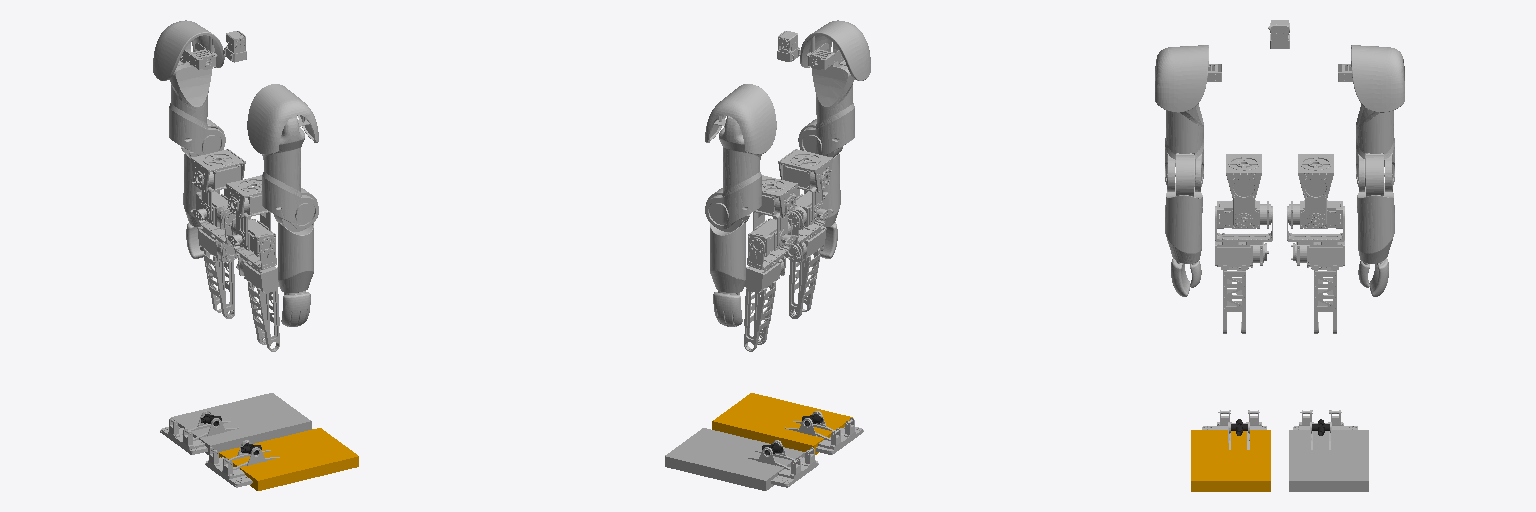
--- What the picture shows (computed from the rendered views, not written in the file) ---
The picture shows the robot from 3 angles, left to right: view 1: azimuth 30°, elevation 25°; view 2: azimuth 150°, elevation 25°; view 3: azimuth 270°, elevation 25°; orthographic projection.
Robot: zjlrobotone — 24 links, 23 joints (22 revolute, 1 fixed); root link base; default pose: every joint at zero.
Links seen in each view (by area): view 1: right_foot_earth_link, left_foot_earth_link, right_upper_arm_Link, left_upper_arm_Link, right_lower_arm_Link, right_shoulder_pitch_Link, right_thigh_Link, left_shoulder_pitch_Link, left_thigh_Link, left_hip_yaw_Link, right_hip_yaw_Link, left_lower_arm_Link (+5 smaller); view 2: left_foot_earth_link, right_foot_earth_link, left_upper_arm_Link, right_upper_arm_Link, left_lower_arm_Link, left_shoulder_pitch_Link, left_thigh_Link, right_shoulder_pitch_Link, right_thigh_Link, right_hip_yaw_Link, left_hip_yaw_Link, right_lower_arm_Link (+5 smaller); view 3: left_foot_earth_link, right_foot_earth_link, right_lower_arm_Link, left_lower_arm_Link, left_shoulder_pitch_Link, right_shoulder_pitch_Link, right_thigh_Link, left_thigh_Link, right_upper_arm_Link, left_upper_arm_Link, left_hip_yaw_Link, right_hip_yaw_Link (+5 smaller).
Link boxes in pixels (<box>): right_foot_earth_link: <box>219,428,358,490</box>; left_foot_earth_link: <box>171,393,311,454</box>; right_upper_arm_Link: <box>262,116,318,228</box>; left_upper_arm_Link: <box>169,42,224,155</box>; right_lower_arm_Link: <box>274,188,317,326</box>; right_shoulder_pitch_Link: <box>247,84,318,154</box>; right_thigh_Link: <box>233,237,279,351</box>; left_shoulder_pitch_Link: <box>153,20,224,80</box>; left_thigh_Link: <box>197,212,239,318</box>; left_hip_yaw_Link: <box>191,149,245,220</box>; right_hip_yaw_Link: <box>226,174,270,246</box>; left_lower_arm_Link: <box>181,119,225,258</box>; left_foot_earth_link: <box>665,428,804,490</box>; right_foot_earth_link: <box>712,393,852,454</box>; left_upper_arm_Link: <box>705,116,761,228</box>; right_upper_arm_Link: <box>799,42,854,155</box>; left_lower_arm_Link: <box>706,188,749,326</box>; left_shoulder_pitch_Link: <box>705,84,776,154</box>; left_thigh_Link: <box>744,237,790,351</box>; right_shoulder_pitch_Link: <box>800,20,870,80</box>; right_thigh_Link: <box>784,212,826,318</box>; right_hip_yaw_Link: <box>778,149,832,220</box>; left_hip_yaw_Link: <box>753,174,797,246</box>; right_lower_arm_Link: <box>798,119,842,258</box>; left_foot_earth_link: <box>1289,430,1368,491</box>; right_foot_earth_link: <box>1191,430,1270,491</box>; right_lower_arm_Link: <box>1165,155,1202,296</box>; left_lower_arm_Link: <box>1357,155,1394,296</box>; left_shoulder_pitch_Link: <box>1338,45,1404,112</box>; right_shoulder_pitch_Link: <box>1155,45,1221,112</box>; right_thigh_Link: <box>1215,206,1272,333</box>; left_thigh_Link: <box>1287,206,1344,333</box>; right_upper_arm_Link: <box>1165,104,1203,191</box>; left_upper_arm_Link: <box>1356,104,1394,191</box>; left_hip_yaw_Link: <box>1298,154,1333,228</box>; right_hip_yaw_Link: <box>1226,154,1261,228</box>.
Bounding box of the posed robot: 0.348 × 0.627 × 1.19 m (x, y, z).
17 mesh visuals loaded from 21 distinct referenced files (17 binary STL); not drawn: 4 (reference not matched to a file when rendering).

URDF robot description (zjlrobotone):
<?xml version="1.0" encoding="utf-8"?>
<!-- This URDF was automatically created by SolidWorks to URDF Exporter! Originally created by Stephen Brawner ([email redacted]) 
     Commit Version: 1.6.0-1-g15f4949  Build Version: 1.6.7594.29634
     For more information, please see http://wiki.ros.org/sw_urdf_exporter -->
<robot
  name="zjlrobotone">
  <!-- Joints and links -->
  <!--link name="base"/-->
  <link name="base"/>
  <joint name="trunk_link-base_fixed_joint" type="fixed">
    <!--origin rpy="0 0 0" xyz="0 0 0.8189"/-->
    <origin rpy="0 0 0" xyz="0 0 0.02"/>
    <parent link="base"/>
    <child link="trunk_link"/>
  </joint>
  <link
    name="trunk_link">
    <inertial>
      <origin
        xyz="-0.000914450757348744 0.000746421374304825 0.914951910973889"
        rpy="0 0 0" />
      <mass
        value="7.52904861171899" />
      <inertia
        ixx="0.0666305484329888"
        ixy="-1.0204528353095E-05"
        ixz="0.000757132239389187"
        iyy="0.0394602930734245"
        iyz="-2.43992241352087E-05"
        izz="0.0622663096051638" />
    </inertial>
    <visual>
      <origin
        xyz="0 0 0"
        rpy="0 0 0" />
      <geometry>
        <mesh
          filename="package://zjlrobotone/meshes/trunk_link.STL" />
      </geometry>
      <material
        name="">
        <color
          rgba="0.752941176470588 0.752941176470588 0.752941176470588 1" />
      </material>
    </visual>
    <collision>
      <origin
        xyz="0 0 0"
        rpy="0 0 0" />
      <geometry>
        <mesh
          filename="package://zjlrobotone/meshes/trunk_link.STL" />
      </geometry>
    </collision>
  </link>
  <link
    name="neck_Link">
    <inertial>
      <origin
        xyz="0.000399637918491747 -0.000628342504643824 0.0321779518256375"
        rpy="0 0 0" />
      <mass
        value="0.261909651464687" />
      <inertia
        ixx="0.000121396705664351"
        ixy="5.460169452591E-12"
        ixz="-3.45895617977189E-06"
        iyy="0.000102480196365687"
        iyz="4.98872979477803E-07"
        izz="7.410282035377E-05" />
    </inertial>
    <visual>
      <origin
        xyz="0 0 0"
        rpy="0 0 0" />
      <geometry>
        <mesh
          filename="package://zjlrobotone/meshes/neck_Link.STL" />
      </geometry>
      <material
        name="">
        <color
          rgba="0.752941176470588 0.752941176470588 0.752941176470588 1" />
      </material>
    </visual>
    <collision>
      <origin
        xyz="0 0 0"
        rpy="0 0 0" />
      <geometry>
        <mesh
          filename="package://zjlrobotone/meshes/neck_Link.STL" />
      </geometry>
    </collision>
  </link>
  <joint
    name="neck_yaw"
    type="revolute">
    <origin
      xyz="0 0 1.111500041206"
      rpy="0 0 0" />
    <parent
      link="trunk_link" />
    <child
      link="neck_Link" />
    <axis
      xyz="0 0 1" />
    <limit
      lower="-3"
      upper="3"
      effort="100"
      velocity="100" />
  </joint>
  <link
    name="head_Link">
    <inertial>
      <origin
        xyz="0.0388706602212827 -1.680084105272E-05 0.10710542579968"
        rpy="0 0 0" />
      <mass
        value="1.27344162747288" />
      <inertia
        ixx="0.00597035907598076"
        ixy="9.79000656877944E-07"
        ixz="0.000511898861205566"
        iyy="0.00376195675607552"
        iyz="-3.66138910866151E-06"
        izz="0.00658008589012989" />
    </inertial>
    <visual>
      <origin
        xyz="0 0 0"
        rpy="0 0 0" />
      <geometry>
        <mesh
          filename="package://zjlrobotone/meshes/head_Link.STL" />
      </geometry>
      <material
        name="">
        <color
          rgba="0.752941176470588 0.752941176470588 0.752941176470588 1" />
      </material>
    </visual>
    <collision>
      <origin
        xyz="0 0 0"
        rpy="0 0 0" />
      <geometry>
        <mesh
          filename="package://zjlrobotone/meshes/head_Link.STL" />
      </geometry>
    </collision>
  </link>
  <joint
    name="head_pitch"
    type="revolute">
    <origin
      xyz="0 0 0.04975"
      rpy="0 0 0" />
    <parent
      link="neck_Link" />
    <child
      link="head_Link" />
    <axis
      xyz="0 1 0" />
    <limit
      lower="-3"
      upper="3"
      effort="100"
      velocity="100" />
  </joint>
  <link
    name="right_shoulder_pitch_Link">
    <inertial>
      <origin
        xyz="-0.000117554601470666 -0.076800679836646 -0.00165994534359676"
        rpy="0 0 0" />
      <mass
        value="0.314079646947585" />
      <inertia
        ixx="0.000653074584763474"
        ixy="-9.53046961165069E-08"
        ixz="-5.1688005431628E-08"
        iyy="0.000881633812399181"
        iyz="-8.84307513571355E-05"
        izz="0.00105209606136951" />
    </inertial>
    <visual>
      <origin
        xyz="0 0 0"
        rpy="0 0 0" />
      <geometry>
        <mesh
          filename="package://zjlrobotone/meshes/right_shoulder_pitch_Link.STL" />
      </geometry>
      <material
        name="">
        <color
          rgba="0.752941176470588 0.752941176470588 0.752941176470588 1" />
      </material>
    </visual>
    <collision>
      <origin
        xyz="0 0 0"
        rpy="0 0 0" />
      <geometry>
        <mesh
          filename="package://zjlrobotone/meshes/right_shoulder_pitch_Link.STL" />
      </geometry>
    </collision>
  </link>
  <joint
    name="right_shoulder_pitch"
    type="revolute">
    <origin
      xyz="0.00106573234120347 -0.14454469837454 1.0373"
      rpy="0 0 0" />
    <parent
      link="trunk_link" />
    <child
      link="right_shoulder_pitch_Link" />
    <axis
      xyz="0 1 0" />
    <limit
      lower="-3"
      upper="3"
      effort="100"
      velocity="100" />
  </joint>
  <link
    name="right_upper_arm_Link">
    <inertial>
      <origin
        xyz="0.00303588692865786 -0.00231543510438542 -0.0958752653376666"
        rpy="0 0 0" />
      <mass
        value="0.635877588901592" />
      <inertia
        ixx="0.00287779069208217"
        ixy="-4.18611659613152E-07"
        ixz="0.000107894243746297"
        iyy="0.0027035617470645"
        iyz="0.000112664835718688"
        izz="0.000476711606016894" />
    </inertial>
    <visual>
      <origin
        xyz="0 0 0"
        rpy="0 0 0" />
      <geometry>
        <mesh
          filename="package://zjlrobotone/meshes/right_upper_arm_Link.STL" />
      </geometry>
      <material
        name="">
        <color
          rgba="0.752941176470588 0.752941176470588 0.752941176470588 1" />
      </material>
    </visual>
    <collision>
      <origin
        xyz="0 0 0"
        rpy="0 0 0" />
      <geometry>
        <mesh
          filename="package://zjlrobotone/meshes/right_upper_arm_Link.STL" />
      </geometry>
    </collision>
  </link>
  <joint
    name="right_shoulder_roll"
    type="revolute">
    <origin
      xyz="0 -0.0927799999999999 -0.0123"
      rpy="0 0 0" />
    <parent
      link="right_shoulder_pitch_Link" />
    <child
      link="right_upper_arm_Link" />
    <axis
      xyz="1 0 0" />
    <limit
      lower="-3"
      upper="3"
      effort="100"
      velocity="100" />
  </joint>
  <link
    name="right_lower_arm_Link">
    <inertial>
      <origin
        xyz="0.00538870678198584 -0.00111238107216985 -0.0772415461756999"
        rpy="0 0 0" />
      <mass
        value="0.587830039636809" />
      <inertia
        ixx="0.00138915468045659"
        ixy="-9.3321640779812E-06"
        ixz="-4.09572705755998E-05"
        iyy="0.00152611035581113"
        iyz="-0.000109617933614794"
        izz="0.000445111625002298" />
    </inertial>
    <visual>
      <origin
        xyz="0 0 0"
        rpy="0 0 0" />
      <geometry>
        <mesh
          filename="package://zjlrobotone/meshes/right_lower_arm_Link.STL" />
      </geometry>
      <material
        name="">
        <color
          rgba="0.752941176470588 0.752941176470588 0.752941176470588 1" />
      </material>
    </visual>
    <collision>
      <origin
        xyz="0 0 0"
        rpy="0 0 0" />
      <geometry>
        <mesh
          filename="package://zjlrobotone/meshes/right_lower_arm_Link.STL" />
      </geometry>
    </collision>
  </link>
  <joint
    name="right_elbow_pitch"
    type="revolute">
    <origin
      xyz="0.0399999999999999 0 -0.249999999999999"
      rpy="0 0 0" />
    <parent
      link="right_upper_arm_Link" />
    <child
      link="right_lower_arm_Link" />
    <axis
      xyz="0 1 0" />
    <limit
      lower="-3"
      upper="3"
      effort="100"
      velocity="100" />
  </joint>
  <link
    name="left_shoulder_pitch_Link">
    <inertial>
      <origin
        xyz="0.000117575341229363 0.0768006683610033 -0.00165993915191015"
        rpy="0 0 0" />
      <mass
        value="0.314079560668122" />
      <inertia
        ixx="0.000653074481699797"
        ixy="-9.55062916713564E-08"
        ixz="5.19576643513754E-08"
        iyy="0.000881633178187226"
        iyz="8.84307157082433E-05"
        izz="0.00105209554881933" />
    </inertial>
    <visual>
      <origin
        xyz="0 0 0"
        rpy="0 0 0" />
      <geometry>
        <mesh
          filename="package://zjlrobotone/meshes/left_shoulder_pitch_Link.STL" />
      </geometry>
      <material
        name="">
        <color
          rgba="0.752941176470588 0.752941176470588 0.752941176470588 1" />
      </material>
    </visual>
    <collision>
      <origin
        xyz="0 0 0"
        rpy="0 0 0" />
      <geometry>
        <mesh
          filename="package://zjlrobotone/meshes/left_shoulder_pitch_Link.STL" />
      </geometry>
    </collision>
  </link>
  <joint
    name="left_shoulder_pitch"
    type="revolute">
    <origin
      xyz="0.00106573234120405 0.14454469837456 1.0373"
      rpy="0 0 0" />
    <parent
      link="trunk_link" />
    <child
      link="left_shoulder_pitch_Link" />
    <axis
      xyz="0 1 0" />
    <limit
      lower="-3"
      upper="3"
      effort="100"
      velocity="100" />
  </joint>
  <link
    name="left_upper_arm_Link">
    <inertial>
      <origin
        xyz="0.00284806682467378 0.00207548938454302 -0.092627016824666"
        rpy="0 0 0" />
      <mass
        value="0.594737763802597" />
      <inertia
        ixx="0.00252021523090866"
        ixy="4.53566048612947E-07"
        ixz="9.68985437445098E-05"
        iyy="0.00237917618847347"
        iyz="-9.46955255343155E-05"
        izz="0.000415234831814517" />
    </inertial>
    <visual>
      <origin
        xyz="0 0 0"
        rpy="0 0 0" />
      <geometry>
        <mesh
          filename="package://zjlrobotone/meshes/left_upper_arm_Link.STL" />
      </geometry>
      <material
        name="">
        <color
          rgba="0.752941176470588 0.752941176470588 0.752941176470588 1" />
      </material>
    </visual>
    <collision>
      <origin
        xyz="0 0 0"
        rpy="0 0 0" />
      <geometry>
        <mesh
          filename="package://zjlrobotone/meshes/left_upper_arm_Link.STL" />
      </geometry>
    </collision>
  </link>
  <joint
    name="left_shoulder_roll"
    type="revolute">
    <origin
      xyz="0 0.09278 -0.0123"
      rpy="0 0 0" />
    <parent
      link="left_shoulder_pitch_Link" />
    <child
      link="left_upper_arm_Link" />
    <axis
      xyz="1 0 0" />
    <limit
      lower="-3"
      upper="3"
      effort="100"
      velocity="100" />
  </joint>
  <link
    name="left_lower_arm_Link">
    <inertial>
      <origin
        xyz="0.00570143028188708 0.00109861725622021 -0.0748707744922804"
        rpy="0 0 0" />
      <mass
        value="0.565622425308031" />
      <inertia
        ixx="0.00130219869014634"
        ixy="8.6913757582877E-06"
        ixz="-3.85811575084768E-05"
        iyy="0.00143212058880135"
        iyz="0.000102462423548298"
        izz="0.000423140321628434" />
    </inertial>
    <visual>
      <origin
        xyz="0 0 0"
        rpy="0 0 0" />
      <geometry>
        <mesh
          filename="package://zjlrobotone/meshes/left_lower_arm_Link.STL" />
      </geometry>
      <material
        name="">
        <color
          rgba="0.752941176470588 0.752941176470588 0.752941176470588 1" />
      </material>
    </visual>
    <collision>
      <origin
        xyz="0 0 0"
        rpy="0 0 0" />
      <geometry>
        <mesh
          filename="package://zjlrobotone/meshes/left_lower_arm_Link.STL" />
      </geometry>
    </collision>
  </link>
  <joint
    name="left_elbow_pitch"
    type="revolute">
    <origin
      xyz="0.0399999999999999 0 -0.25"
      rpy="0 0 0" />
    <parent
      link="left_upper_arm_Link" />
    <child
      link="left_lower_arm_Link" />
    <axis
      xyz="0 1 0" />
    <limit
      lower="-3"
      upper="3"
      effort="100"
      velocity="100" />
  </joint>
  <link
    name="right_hip_yaw_Link">
    <inertial>
      <origin
        xyz="-0.00180542083044109 -3.23543340918775E-06 -0.0651566603440417"
        rpy="0 0 0" />
      <mass
        value="0.659354519164012" />
      <inertia
        ixx="0.000407361803865825"
        ixy="4.86343521936953E-08"
        ixz="9.54652039100096E-15"
        iyy="0.000648602193750625"
        iyz="9.21589387786542E-07"
        izz="0.000701071631463462" />
    </inertial>
    <visual>
      <origin
        xyz="0 0 0"
        rpy="0 0 0" />
      <geometry>
        <mesh
          filename="package://zjlrobotone/meshes/right_hip_yaw_Link.STL" />
      </geometry>
      <material
        name="">
        <color
          rgba="0.752941176470588 0.752941176470588 0.752941176470588 1" />
      </material>
    </visual>
    <collision>
      <origin
        xyz="0 0 0"
        rpy="0 0 0" />
      <geometry>
        <mesh
          filename="package://zjlrobotone/meshes/right_hip_yaw_Link.STL" />
      </geometry>
    </collision>
  </link>
  <joint
    name="right_hip_yaw"
    type="revolute">
    <origin
      xyz="0.00106573234120409 -0.08999999999999 0.8015"
      rpy="0 0 0" />
    <parent
      link="trunk_link" />
    <child
      link="right_hip_yaw_Link" />
    <axis
      xyz="0 0 1" />
    <limit
      lower="-3"
      upper="3"
      effort="100"
      velocity="100" />
  </joint>
  <link
    name="right_hip_roll_Link">
    <inertial>
      <origin
        xyz="-0.00402790305119725 0.000253406147921034 4.74632676361608E-06"
        rpy="0 0 0" />
      <mass
        value="0.4498599629689" />
      <inertia
        ixx="0.000537655307973921"
        ixy="1.06093839429833E-13"
        ixz="5.29299031605909E-13"
        iyy="0.0001748510313321"
        iyz="6.77086815741302E-08"
        izz="0.000528037707680087" />
    </inertial>
    <visual>
      <origin
        xyz="0 0 0"
        rpy="0 0 0" />
      <geometry>
        <mesh
          filename="package://zjlrobotone/meshes/right_hip_roll_Link.STL" />
      </geometry>
      <material
        name="">
        <color
          rgba="0.752941176470588 0.752941176470588 0.752941176470588 1" />
      </material>
    </visual>
    <collision>
      <origin
        xyz="0 0 0"
        rpy="0 0 0" />
      <geometry>
        <mesh
          filename="package://zjlrobotone/meshes/right_hip_roll_Link.STL" />
      </geometry>
    </collision>
  </link>
  <joint
    name="right_hip_roll"
    type="revolute">
    <origin
      xyz="-0.00100000000000005 0 -0.1565"
      rpy="0 0 0" />
    <parent
      link="right_hip_yaw_Link" />
    <child
      link="right_hip_roll_Link" />
    <axis
      xyz="1 0 0" />
    <limit
      lower="-3"
      upper="3"
      effort="100"
      velocity="100" />
  </joint>
  <link
    name="right_thigh_Link">
    <inertial>
      <origin
        xyz="-2.47003057792764E-06 -0.0110258372664085 -0.127005932302343"
        rpy="0 0 0" />
      <mass
        value="0.863671804236828" />
      <inertia
        ixx="0.00142415985180804"
        ixy="-5.96244355777299E-08"
        ixz="-5.45099717717677E-07"
        iyy="0.00101272015680401"
        iyz="5.61076371540611E-07"
        izz="0.000751346115904397" />
    </inertial>
    <visual>
      <origin
        xyz="0 0 0"
        rpy="0 0 0" />
      <geometry>
        <mesh
          filename="package://zjlrobotone/meshes/right_thigh_Link.STL" />
      </geometry>
      <material
        name="">
        <color
          rgba="0.752941176470588 0.752941176470588 0.752941176470588 1" />
      </material>
    </visual>
    <collision>
      <origin
        xyz="0 0 0"
        rpy="0 0 0" />
      <geometry>
        <mesh
          filename="package://zjlrobotone/meshes/right_thigh_Link.STL" />
      </geometry>
    </collision>
  </link>
  <joint
    name="right_hip_pitch"
    type="revolute">
    <origin
      xyz="0 0 0"
      rpy="0 -0.107303 0" />
    <parent
      link="right_hip_roll_Link" />
    <child
      link="right_thigh_Link" />
    <axis
      xyz="0 1 0" />
    <limit
      lower="-3"
      upper="3"
      effort="100"
      velocity="100" />
  </joint>
  <link
    name="right_shank_Link">
    <inertial>
      <origin
        xyz="-0.00610225690505806 0.00203256334866765 -0.0965677867700049"
        rpy="0 0 0" />
      <mass
        value="1.20316813873413" />
      <inertia
        ixx="0.000867608138836583"
        ixy="-4.86969865668049E-08"
        ixz="-6.80400789284231E-07"
        iyy="0.000597528262112518"
        iyz="-9.01751669134556E-08"
        izz="0.000880639741370915" />
    </inertial>
    <visual>
      <origin
        xyz="0 0 0"
        rpy="0 0 0" />
      <geometry>
        <mesh
          filename="package://zjlrobotone/meshes/right_shank_Link.STL" />
      </geometry>
      <material
        name="">
        <color
          rgba="0.752941176470588 0.752941176470588 0.752941176470588 1" />
      </material>
    </visual>
    <collision>
      <origin
        xyz="0 0 0"
        rpy="0 0 0" />
      <geometry>
        <mesh
          filename="package://zjlrobotone/meshes/right_shank_Link.STL" />
      </geometry>
    </collision>
  </link>
  <joint
    name="right_knee_pitch"
    type="revolute">
    <origin
      xyz="0 -0.0119999999999984 -0.3"
      rpy="0 0.257133 0" />
    <parent
      link="right_thigh_Link" />
    <child
      link="right_shank_Link" />
    <axis
      xyz="0 1 0" />
    <limit
      lower="-3"
      upper="3"
      effort="100"
      velocity="100" />
  </joint>
  <link
    name="right_ankle_Link">
    <inertial>
      <origin
        xyz="-4.28738703723425E-08 4.2873870287341E-08 -4.33065261429277E-09"
        rpy="0 0 0" />
      <mass
        value="0.0671628268156403" />
      <inertia
        ixx="1.14287124605302E-05"
        ixy="-1.23510111810938E-16"
        ixz="1.24864536638696E-17"
        iyy="1.14287124605304E-05"
        iyz="-1.24639065812824E-17"
        izz="1.88762683458017E-05" />
    </inertial>
    <visual>
      <origin
        xyz="0 0 0"
        rpy="0 0 0" />
      <geometry>
        <mesh
          filename="package://zjlrobotone/meshes/right_ankle_Link.STL" />
      </geometry>
      <material
        name="">
        <color
          rgba="0.2 0.2 0.2 1" />
      </material>
    </visual>
    <collision>
      <origin
        xyz="0 0 0"
        rpy="0 0 0" />
      <geometry>
        <mesh
          filename="package://zjlrobotone/meshes/right_ankle_Link.STL" />
      </geometry>
    </collision>
  </link>
  <joint
    name="right_ankle_roll"
    type="revolute">
    <origin
      xyz="0.000271017802116743 0 -0.3"
      rpy="0 0 0" />
    <parent
      link="right_shank_Link" />
    <child
      link="right_ankle_Link" />
    <axis
      xyz="1 0 0" />
    <limit
      lower="-3"
      upper="3"
      effort="100"
      velocity="100" />
  </joint>
  <link
    name="right_foot_Link">
    <inertial>
      <origin
        xyz="0.0221949551330184 -0.00747247835051637 -0.0388140987520367"
        rpy="0 0 0" />
      <mass
        value="0.930133184005028" />
      <inertia
        ixx="0.00161951534855779"
        ixy="-1.52608590855939E-12"
        ixz="-3.01649562491367E-06"
        iyy="0.00550055156549085"
        iyz="4.32152403884859E-16"
        izz="0.00709214201931003" />
    </inertial>
    <visual>
      <origin
        xyz="0 0 0"
        rpy="0 0 0" />
      <geometry>
        <mesh
          filename="package://zjlrobotone/meshes/right_foot_Link.STL" />
      </geometry>
      <material
        name="">
        <color
          rgba="0.752941176470588 0.752941176470588 0.752941176470588 1" />
      </material>
    </visual>
    <collision>
      <origin
        xyz="0 0 0"
        rpy="0 0 0" />
      <geometry>
        <mesh
          filename="package://zjlrobotone/meshes/right_foot_Link.STL" />
      </geometry>
    </collision>
  </link>
  <joint
          name="right_ankle_pitch"
          type="revolute">
    <origin
            xyz="0 0 0"
            rpy="0 -0.149307 0" />
    <parent
            link="right_ankle_Link" />
    <child
            link="right_foot_Link" />
    <axis
            xyz="0 1 0" />
    <limit
            lower="-3"
            upper="3"
            effort="100"
            velocity="100" />
  </joint>


  <link name="right_foot_earth_link">
    <inertial>
      <origin
              xyz="0.022199 0.0074743 -0.038818"
              rpy="0 0 0" />
      <mass
              value="0.1" />
      <inertia
              ixx="0.0000001"
              ixy="-1.5272E-12"
              ixz="-3.0165E-06"
              iyy="0.000000001"
              iyz="4.3083E-16"
              izz="0.000000001" />
    </inertial>
    <visual>
      <geometry>
        <box size="0.3 0.2 0.03"/>
      </geometry>
      <origin rpy="0 0 0" xyz="0.1 -0.02 -0.045"/>
      <material name="white"/>
    </visual>
    <collision>
      <origin
              xyz="0.1 -0.02 -0.045"
              rpy="0 0 0" />
      <geometry>
        <box size="0.3 0.2 0.03"/>
      </geometry>
    </collision>
  </link>
  <joint
          name="right_foot_earth"
          type="revolute">
    <origin
            xyz="0 0 0"
            rpy="0 0 0" />
    <parent
            link="right_foot_Link" />
    <child
            link="right_foot_earth_link" />
    <axis
            xyz="0 1 0" />
    <limit
            lower="-0"
            upper="0"
            effort="100"
            velocity="100" />
  </joint>


  <link
          name="left_hip_yaw_Link">
    <inertial>
      <origin
              xyz="-0.00180542081936131 -3.23543056518494E-06 -0.0651566603358004"
              rpy="0 0 0" />
      <mass
              value="0.659354519312748" />
      <inertia
              ixx="0.000407361803909441"
              ixy="4.86343619123616E-08"
              ixz="1.71998180548052E-14"
              iyy="0.000648602193773364"
              iyz="9.21589366937119E-07"
              izz="0.00070107163149285" />
    </inertial>
    <visual>
      <origin
              xyz="0 0 0"
              rpy="0 0 0" />
      <geometry>
        <mesh
                filename="package://zjlrobotone/meshes/left_hip_yaw_Link.STL" />
      </geometry>
      <material
              name="">
        <color
                rgba="0.752941176470588 0.752941176470588 0.752941176470588 1" />
      </material>
    </visual>
    <collision>
      <origin
              xyz="0 0 0"
              rpy="0 0 0" />
      <geometry>
        <mesh
                filename="package://zjlrobotone/meshes/left_hip_yaw_Link.STL" />
      </geometry>
    </collision>
  </link>
  <joint
          name="left_hip_yaw"
          type="revolute">
    <origin
            xyz="0.00106573234120401 0.09000000000001 0.8015"
            rpy="0 0 0" />
    <parent
            link="trunk_link" />
    <child
            link="left_hip_yaw_Link" />
    <axis
            xyz="0 0 1" />
    <limit
            lower="-3"
            upper="3"
            effort="100"
            velocity="100" />
  </joint>
  <link
          name="left_hip_roll_Link">
    <inertial>
      <origin
              xyz="-0.00402234130300469 -0.000340600338428365 -2.60358178113818E-05"
              rpy="0 0 0" />
      <mass
              value="0.450481998312681" />
      <inertia
              ixx="0.000537658966448533"
              ixy="1.28440261459119E-13"
              ixz="-5.29208644299967E-13"
              iyy="0.000174858281931683"
              iyz="-6.77125219836977E-08"
              izz="0.000528041366154448" />
    </inertial>
    <visual>
      <origin
              xyz="0 0 0"
              rpy="0 0 0" />
      <geometry>
        <mesh
                filename="package://zjlrobotone/meshes/left_hip_roll_Link.STL" />
      </geometry>
      <material
              name="">
        <color
                rgba="0.752941176470588 0.752941176470588 0.752941176470588 1" />
      </material>
    </visual>
    <collision>
      <origin
              xyz="0 0 0"
              rpy="0 0 0" />
      <geometry>
        <mesh
                filename="package://zjlrobotone/meshes/left_hip_roll_Link.STL" />
      </geometry>
    </collision>
  </link>
  <joint
          name="left_hip_roll"
          type="revolute">
    <origin
            xyz="-0.00100000000000003 0 -0.1565"
            rpy="0 0 0" />
    <parent
            link="left_hip_yaw_Link" />
    <child
            link="left_hip_roll_Link" />
    <axis
            xyz="1 0 0" />
    <limit
            lower="-3"
            upper="3"
            effort="100"
            velocity="100" />
  </joint>
  <link
          name="left_thigh_Link">
    <inertial>
      <origin
              xyz="-7.36056330182271E-05 0.0119425482354867 -0.129419512726355"
              rpy="0 0 0" />
      <mass
              value="0.826940841937815" />
      <inertia
              ixx="0.00142486077337241"
              ixy="7.57865653612802E-08"
              ixz="-7.99628130843427E-07"
              iyy="0.00101231405412004"
              iyz="-5.61076140989696E-07"
              izz="0.000749866288408142" />
    </inertial>
    <visual>
      <origin
              xyz="0 0 0"
              rpy="0 0 0" />
      <geometry>
        <mesh
                filename="package://zjlrobotone/meshes/left_thigh_Link.STL" />
      </geometry>
      <material
              name="">
        <color
                rgba="0.752941176470588 0.752941176470588 0.752941176470588 1" />
      </material>
    </visual>
    <collision>
      <origin
              xyz="0 0 0"
              rpy="0 0 0" />
      <geometry>
        <mesh
                filename="package://zjlrobotone/meshes/left_thigh_Link.STL" />
      </geometry>
    </collision>
  </link>
  <joint
          name="left_hip_pitch"
          type="revolute">
    <origin
            xyz="0 0 0"
            rpy="0 -0.107303 0" />
    <parent
            link="left_hip_roll_Link" />
    <child
            link="left_thigh_Link" />
    <axis
            xyz="0 1 0" />
    <limit
            lower="-3"
            upper="3"
            effort="100"
            velocity="100" />
  </joint>
  <link
          name="left_shank_Link">
    <inertial>
      <origin
              xyz="-0.00609597274610765 -0.00216933192014158 -0.0968069168618255"
              rpy="0 0 0" />
      <mass
              value="1.20212924681142" />
      <inertia
              ixx="0.000869200497076359"
              ixy="-4.8696986814213E-08"
              ixz="-9.9758096067874E-07"
              iyy="0.000597511440001174"
              iyz="-4.86363068441647E-08"
              izz="0.00087902791916659" />
    </inertial>
    <visual>
      <origin
              xyz="0 0 0"
              rpy="0 0 0" />
      <geometry>
        <mesh
                filename="package://zjlrobotone/meshes/left_shank_Link.STL" />
      </geometry>
      <material
              name="">
        <color
                rgba="0.752941176470588 0.752941176470588 0.752941176470588 1" />
      </material>
    </visual>
    <collision>
      <origin
              xyz="0 0 0"
              rpy="0 0 0" />
      <geometry>
        <mesh
                filename="package://zjlrobotone/meshes/left_shank_Link.STL" />
      </geometry>
    </collision>
  </link>
  <joint
          name="left_knee_pitch"
          type="revolute">
    <origin
            xyz="0 0.013000000000026 -0.29999999999994"
            rpy="0 0.257133 0" />
    <parent
            link="left_thigh_Link" />
    <child
            link="left_shank_Link" />
    <axis
            xyz="0 1 0" />
    <limit
            lower="-3"
            upper="3"
            effort="100"
            velocity="100" />
  </joint>
  <link
          name="left_ankle_Link">
    <inertial>
      <origin
              xyz="-4.28738706278889E-08 4.28738703150966E-08 -4.33065272531508E-09"
              rpy="0 0 0" />
      <mass
              value="0.0671628268156411" />
      <inertia
              ixx="1.14287124605303E-05"
              ixy="-1.23544410135537E-16"
              ixz="1.24580745284108E-17"
              iyy="1.14287124605304E-05"
              iyz="-1.24606267137677E-17"
              izz="1.88762683458017E-05" />
    </inertial>
    <visual>
      <origin
              xyz="0 0 0"
              rpy="0 0 0" />
      <geometry>
        <mesh
                filename="package://zjlrobotone/meshes/left_ankle_Link.STL" />
      </geometry>
      <material
              name="">
        <color
                rgba="0.2 0.2 0.2 1" />
      </material>
    </visual>
    <collision>
      <origin
              xyz="0 0 0"
              rpy="0 0 0" />
      <geometry>
        <mesh
                filename="package://zjlrobotone/meshes/left_ankle_Link.STL" />
      </geometry>
    </collision>
  </link>
  <joint
          name="left_ankle_roll"
          type="revolute">
    <origin
            xyz="0.000271017802122291 0 -0.300000000000035"
            rpy="0 0 0" />
    <parent
            link="left_shank_Link" />
    <child
            link="left_ankle_Link" />
    <axis
            xyz="1 0 0" />
    <limit
            lower="-3"
            upper="3"
            effort="100"
            velocity="100" />
  </joint>
  <link
          name="left_foot_Link">
    <inertial>
      <origin
              xyz="0.022199 0.0074743 -0.038818"
              rpy="0 0 0" />
      <mass
              value="0.93026" />
      <inertia
              ixx="0.00162"
              ixy="-1.5272E-12"
              ixz="-3.0165E-06"
              iyy="0.0055027"
              iyz="4.3083E-16"
              izz="0.0070947" />
    </inertial>
    <visual>
      <origin
              xyz="0 0 0"
              rpy="0 0 0" />
      <geometry>
        <mesh
                filename="package://zjlrobotone/meshes/left_foot_Link.STL" />
      </geometry>
      <material
              name="">
        <color
                rgba="0.75294 0.75294 0.75294 1" />
      </material>
    </visual>
    <collision>
      <origin
              xyz="0 0 0"
              rpy="0 0 0" />
      <geometry>
        <mesh
                filename="package://zjlrobotone/meshes/left_foot_Link.STL" />
      </geometry>
    </collision>
  </link>
  <joint
          name="left_ankle_pitch"
          type="revolute">
    <origin
            xyz="0 0 0"
            rpy="0 -0.149307 0" />
    <parent
            link="left_ankle_Link" />
    <child
            link="left_foot_Link" />
    <axis
            xyz="0 1 0" />
    <limit
            lower="-3"
            upper="3"
            effort="100"
            velocity="100" />
  </joint>
  <link name="left_foot_earth_link">
    <inertial>
      <origin
              xyz="0.022199 0.0074743 -0.038818"
              rpy="0 0 0" />
      <mass
              value="0.1" />
      <inertia
              ixx="0.00000001"
              ixy="-1.5272E-12"
              ixz="-3.0165E-06"
              iyy="0.00000001"
              iyz="4.3083E-16"
              izz="0.00000001" />
    </inertial>
    <visual>
      <geometry>
        <box size="0.3 0.2 0.03"/>
      </geometry>
      <origin rpy="0 0 0" xyz="0.1 0.02 -0.045"/>
      <material name="white"/>
    </visual>
    <collision>
      <origin
              xyz="0.1 0.02 -0.045"
              rpy="0 0 0" />
      <geometry>
        <box size="0.3 0.2 0.03"/>
      </geometry>
    </collision>
  </link>
  <joint
          name="left_foot_earth"
          type="revolute">
    <origin
            xyz="0 0 0"
            rpy="0 0 0" />
    <parent
            link="left_foot_Link" />
    <child
            link="left_foot_earth_link" />
    <axis
            xyz="0 1 0" />
    <limit
            lower="-0"
            upper="0"
            effort="100"
            velocity="100" />
  </joint>







<!-- Transmissions -->
  <transmission name="neck_yaw_transmission">
    <type>transmission_interface/SimpleTransmission</type>
    <joint name="neck_yaw">
      <hardwareInterface>EffortJointInterface</hardwareInterface>
    </joint>
    <actuator name="neck_yaw">
      <mechanicalReduction>1</mechanicalReduction>
    </actuator>
  </transmission>
  <transmission name="head_pitch_transmission">
    <type>transmission_interface/SimpleTransmission</type>
    <joint name="head_pitch">
      <hardwareInterface>EffortJointInterface</hardwareInterface>
    </joint>
    <actuator name="head_pitch">
      <mechanicalReduction>1</mechanicalReduction>
    </actuator>
  </transmission>
  <transmission name="right_shoulder_pitch_transmission">
    <type>transmission_interface/SimpleTransmission</type>
    <joint name="right_shoulder_pitch">
      <hardwareInterface>EffortJointInterface</hardwareInterface>
    </joint>
    <actuator name="right_shoulder_pitch">
      <mechanicalReduction>1</mechanicalReduction>
    </actuator>
  </transmission>
  <transmission name="right_shoulder_roll_transmission">
    <type>transmission_interface/SimpleTransmission</type>
    <joint name="right_shoulder_roll">
      <hardwareInterface>EffortJointInterface</hardwareInterface>
    </joint>
    <actuator name="right_shoulder_roll">
      <mechanicalReduction>1</mechanicalReduction>
    </actuator>
  </transmission>
  <transmission name="right_elbow_pitch_transmission">
    <type>transmission_interface/SimpleTransmission</type>
    <joint name="right_elbow_pitch">
      <hardwareInterface>EffortJointInterface</hardwareInterface>
    </joint>
    <actuator name="right_elbow_pitch">
      <mechanicalReduction>1</mechanicalReduction>
    </actuator>
  </transmission>
  <transmission name="left_shoulder_pitch_transmission">
    <type>transmission_interface/SimpleTransmission</type>
    <joint name="left_shoulder_pitch">
      <hardwareInterface>EffortJointInterface</hardwareInterface>
    </joint>
    <actuator name="left_shoulder_pitch">
      <mechanicalReduction>1</mechanicalReduction>
    </actuator>
  </transmission>
  <transmission name="left_shoulder_roll_transmission">
    <type>transmission_interface/SimpleTransmission</type>
    <joint name="left_shoulder_roll">
      <hardwareInterface>EffortJointInterface</hardwareInterface>
    </joint>
    <actuator name="left_shoulder_roll">
      <mechanicalReduction>1</mechanicalReduction>
    </actuator>
  </transmission>
  <transmission name="left_elbow_pitch_transmission">
    <type>transmission_interface/SimpleTransmission</type>
    <joint name="left_elbow_pitch">
      <hardwareInterface>EffortJointInterface</hardwareInterface>
    </joint>
    <actuator name="left_elbow_pitch">
      <mechanicalReduction>1</mechanicalReduction>
    </actuator>
  </transmission>
  <transmission name="right_hip_yaw_transmission">
    <type>transmission_interface/SimpleTransmission</type>
    <joint name="right_hip_yaw">
      <hardwareInterface>EffortJointInterface</hardwareInterface>
    </joint>
    <actuator name="right_hip_yaw">
      <mechanicalReduction>1</mechanicalReduction>
    </actuator>
  </transmission>
  <transmission name="right_knee_pitch_transmission">
    <type>transmission_interface/SimpleTransmission</type>
    <joint name="right_knee_pitch">
      <hardwareInterface>EffortJointInterface</hardwareInterface>
    </joint>
    <actuator name="right_knee_pitch">
      <mechanicalReduction>1</mechanicalReduction>
    </actuator>
  </transmission>
  <transmission name="right_ankle_pitch_transmission">
    <type>transmission_interface/SimpleTransmission</type>
    <joint name="right_ankle_pitch">
      <hardwareInterface>EffortJointInterface</hardwareInterface>
    </joint>
    <actuator name="right_ankle_pitch">
      <mechanicalReduction>1</mechanicalReduction>
    </actuator>
  </transmission>
  <transmission name="right_ankle_roll_transmission">
    <type>transmission_interface/SimpleTransmission</type>
    <joint name="right_ankle_roll">
      <hardwareInterface>EffortJointInterface</hardwareInterface>
    </joint>
    <actuator name="right_ankle_roll">
      <mechanicalReduction>1</mechanicalReduction>
    </actuator>
  </transmission>
  <transmission name="right_hip_roll_transmission">
    <type>transmission_interface/SimpleTransmission</type>
    <joint name="right_hip_roll">
      <hardwareInterface>EffortJointInterface</hardwareInterface>
    </joint>
    <actuator name="right_hip_roll">
      <mechanicalReduction>1</mechanicalReduction>
    </actuator>
  </transmission>
  <transmission name="right_hip_pitch_transmission">
    <type>transmission_interface/SimpleTransmission</type>
    <joint name="right_hip_pitch">
      <hardwareInterface>EffortJointInterface</hardwareInterface>
    </joint>
    <actuator name="right_hip_pitch">
      <mechanicalReduction>1</mechanicalReduction>
    </actuator>
  </transmission>
  <transmission name="left_hip_yaw_transmission">
    <type>transmission_interface/SimpleTransmission</type>
    <joint name="left_hip_yaw">
      <hardwareInterface>EffortJointInterface</hardwareInterface>
    </joint>
    <actuator name="left_hip_yaw">
      <mechanicalReduction>1</mechanicalReduction>
    </actuator>
  </transmission>
  <transmission name="left_hip_roll_transmission">
    <type>transmission_interface/SimpleTransmission</type>
    <joint name="left_hip_roll">
      <hardwareInterface>EffortJointInterface</hardwareInterface>
    </joint>
    <actuator name="left_hip_roll">
      <mechanicalReduction>1</mechanicalReduction>
    </actuator>
  </transmission>
  <transmission name="left_hip_pitch_transmission">
    <type>transmission_interface/SimpleTransmission</type>
    <joint name="left_hip_pitch">
      <hardwareInterface>EffortJointInterface</hardwareInterface>
    </joint>
    <actuator name="left_hip_pitch">
      <mechanicalReduction>1</mechanicalReduction>
    </actuator>
  </transmission>
  <transmission name="left_knee_pitch_transmission">
    <type>transmission_interface/SimpleTransmission</type>
    <joint name="left_knee_pitch">
      <hardwareInterface>EffortJointInterface</hardwareInterface>
    </joint>
    <actuator name="left_knee_pitch">
      <mechanicalReduction>1</mechanicalReduction>
    </actuator>
  </transmission>
  <transmission name="left_ankle_roll_transmission">
    <type>transmission_interface/SimpleTransmission</type>
    <joint name="left_ankle_roll">
      <hardwareInterface>EffortJointInterface</hardwareInterface>
    </joint>
    <actuator name="left_ankle_roll">
      <mechanicalReduction>1</mechanicalReduction>
    </actuator>
  </transmission>
  <transmission name="left_ankle_pitch_transmission">
    <type>transmission_interface/SimpleTransmission</type>
    <joint name="left_ankle_pitch">
      <hardwareInterface>EffortJointInterface</hardwareInterface>
    </joint>
    <actuator name="left_ankle_pitch">
      <mechanicalReduction>1</mechanicalReduction>
    </actuator>
  </transmission>





 <!-- Gazebo links -->
  <gazebo reference="trunk_link">
    <material>Gazebo/White</material>
  </gazebo>
  <gazebo reference="left_hip_yaw_link">
    <material>Gazebo/White</material>
  </gazebo>
  <gazebo reference="left_hip_roll_link">
    <material>Gazebo/White</material>
  </gazebo>
  <gazebo reference="left_thigh_link">
    <material>Gazebo/White</material>
  </gazebo>
  <gazebo reference="left_shank_link">
    <material>Gazebo/White</material>
  </gazebo>
  <gazebo reference="left_ankle_link">
    <material>Gazebo/White</material>
  </gazebo>
  <gazebo reference="left_foot_link">
    <material>Gazebo/White</material>
    <kp>1000000.0</kp>
    <kd>100.0</kd>
    <mu1>1.0</mu1>
    <mu2>1.0</mu2>
    <fdir1>1 1 0</fdir1>
    <maxVel>1.0</maxVel>
    <minDepth>0.00</minDepth>
  </gazebo>
  <gazebo reference="left_shoulder_pitch_link">
    <material>Gazebo/White</material>
  </gazebo>
  <gazebo reference="left_upper_arm_link">
    <material>Gazebo/White</material>
  </gazebo>
  <gazebo reference="left_lower_arm_link">
    <material>Gazebo/White</material>
  </gazebo>
  <gazebo reference="right_hip_yaw_link">
    <material>Gazebo/White</material>
  </gazebo>
  <gazebo reference="right_hip_roll_link">
    <material>Gazebo/White</material>
  </gazebo>
  <gazebo reference="right_thigh_link">
    <material>Gazebo/White</material>
  </gazebo>
  <gazebo reference="right_shank_link">
    <material>Gazebo/White</material>
  </gazebo>
  <gazebo reference="right_ankle_link">
    <material>Gazebo/White</material>
  </gazebo>
  <gazebo reference="right_foot_link">
    <material>Gazebo/White</material>
    <kp>1000000.0</kp>
    <kd>100.0</kd>
    <mu1>1.0</mu1>
    <mu2>1.0</mu2>
    <fdir1>1 1 0</fdir1>
    <maxVel>1.0</maxVel>
    <minDepth>0.00</minDepth>
  </gazebo>
  <gazebo reference="right_shoulder_pitch_link">
    <material>Gazebo/White</material>
  </gazebo>
  <gazebo reference="right_upper_arm_link">
    <material>Gazebo/White</material>
  </gazebo>
  <gazebo reference="right_lower_arm_link">
    <material>Gazebo/White</material>
  </gazebo>
  <gazebo reference="neck_link">
    <material>Gazebo/Black</material>
  </gazebo>
  <gazebo reference="head_Link">
    <material>Gazebo/Black</material>
  </gazebo>
  <gazebo reference="left_foot_earth_link">
    <material>Gazebo/Black</material>
    <kp>1000000.0</kp>
    <kd>100.0</kd>
    <mu1>1.0</mu1>
    <mu2>1.0</mu2>
    <fdir1>1 1 0</fdir1>
    <maxVel>1.0</maxVel>
    <minDepth>0.00</minDepth>
  </gazebo>
  <gazebo reference="right_foot_earth_link">
    <material>Gazebo/Black</material>
    <kp>1000000.0</kp>
    <kd>100.0</kd>
    <mu1>1.0</mu1>
    <mu2>1.0</mu2>
    <fdir1>1 1 0</fdir1>
    <maxVel>1.0</maxVel>
    <minDepth>0.00</minDepth>
  </gazebo>





  <!-- Gazebo configuration -->
  <gazebo>
    <plugin filename="libgazebo_ros_control.so" name="gazebo_ros_control">
      <robotNamespace>/zjlrobotone</robotNamespace>
    </plugin>
  </gazebo>
  <gazebo reference="trunk_link">
    <gravity>true</gravity>
    <sensor name="imu_sensor" type="imu">
      <always_on>true</always_on>
      <update_rate>10</update_rate>
      <visualize>true</visualize>
      <topic>__default_topic__</topic>
      <plugin filename="libgazebo_ros_imu_sensor.so" name="imu_plugin">
        <topicName>imu</topicName>
        <bodyName>trunk_link</bodyName>
        <updateRateHZ>10.0</updateRateHZ>
        <gaussianNoise>0.0</gaussianNoise>
        <xyzOffset>0 0 0</xyzOffset>
        <rpyOffset>0 0 0</rpyOffset>
        <frameName>trunk_link</frameName>
      </plugin>
      <pose>0 0 0 0 0 0</pose>
    </sensor>
  </gazebo>
 <gazebo 
      reference="right_foot_earth">
     <provideFeedback>true</provideFeedback>
 </gazebo>
  <gazebo>
      <plugin name="ft_sensor" filename="libgazebo_ros_ft_sensor.so">
          <updateRate>500.0</updateRate>
          <topicName>ft_right_foot_earth</topicName>
          <jointName>right_foot_earth</jointName>
      </plugin>
  </gazebo>
  <gazebo
          reference="left_foot_earth">
    <provideFeedback>true</provideFeedback>
  </gazebo>
  <gazebo>
    <plugin name="ft_sensor" filename="libgazebo_ros_ft_sensor.so">
      <updateRate>500.0</updateRate>
      <topicName>ft_left_foot_earth</topicName>
      <jointName>left_foot_earth</jointName>
    </plugin>
  </gazebo>
</robot>
